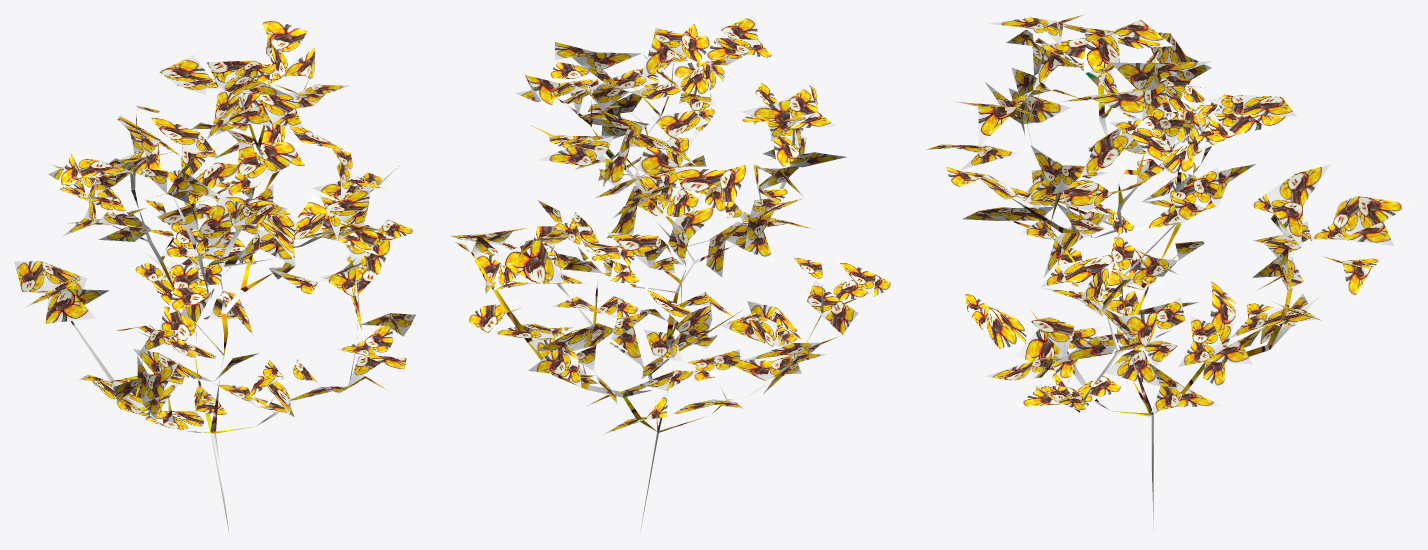
File: blueberryBush_lod1.fbx
The picture shows the model from 3 angles, left to right: view 1: azimuth 30°, elevation 25°; view 2: azimuth 150°, elevation 25°; view 3: azimuth 270°, elevation 25°; orthographic projection. The views are drawn at different scales.
Visible parts, largest first — view 1: blueberryBush_lod1; view 2: blueberryBush_lod1; view 3: blueberryBush_lod1.
Boxes of the visible parts, bbox=[...] form: blueberryBush_lod1: bbox=[14, 14, 420, 533]; blueberryBush_lod1: bbox=[450, 14, 895, 531]; blueberryBush_lod1: bbox=[926, 14, 1413, 530].
Size of the model in its own units: 130 by 160 by 140.
